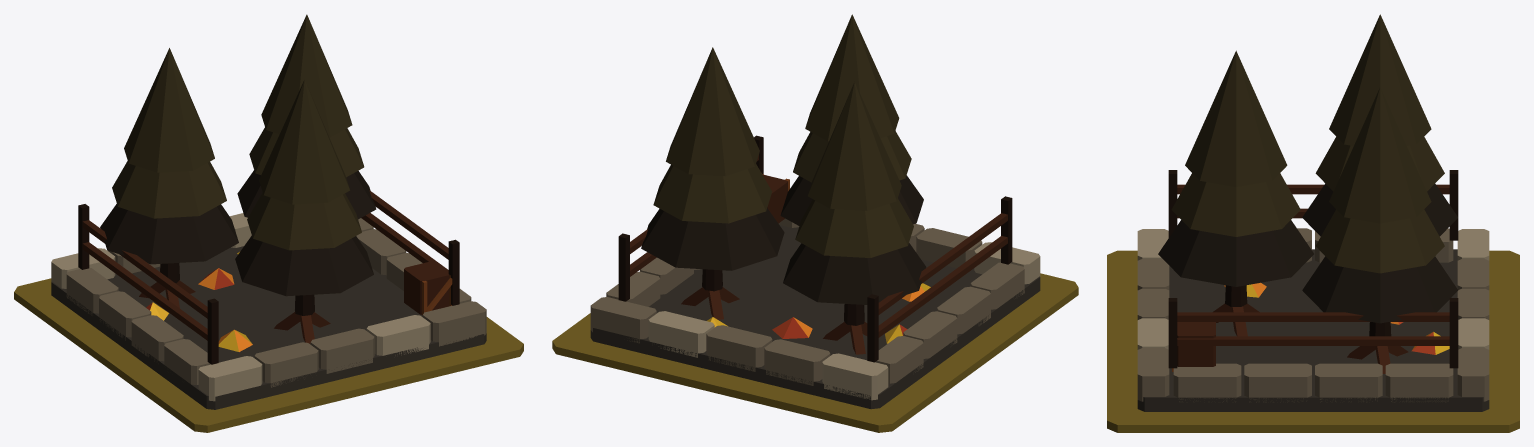
File: whisper-grove_t4.glb
3 renders of one model, left to right at view 1: azimuth 30°, elevation 25°; view 2: azimuth 150°, elevation 25°; view 3: azimuth 270°, elevation 25°, orthographic. The views are drawn at different scales.
Parts seen in each view (by area): view 1: MMR | whisper-grove | T04 Architecture.001, MMR | whisper-grove | Tier 04 Ground.001, MMR | whisper-grove | T04 Autumn Dressing.001; view 2: MMR | whisper-grove | T04 Architecture.001, MMR | whisper-grove | Tier 04 Ground.001, MMR | whisper-grove | T04 Autumn Dressing.001; view 3: MMR | whisper-grove | T04 Architecture.001, MMR | whisper-grove | Tier 04 Ground.001, MMR | whisper-grove | T04 Autumn Dressing.001.
Part boxes in pixels (x1,y1,x2,y2): MMR | whisper-grove | T04 Architecture.001: (51, 14, 486, 409); MMR | whisper-grove | Tier 04 Ground.001: (14, 278, 523, 432); MMR | whisper-grove | T04 Autumn Dressing.001: (146, 252, 252, 351); MMR | whisper-grove | T04 Architecture.001: (590, 14, 1040, 409); MMR | whisper-grove | Tier 04 Ground.001: (552, 273, 1078, 432); MMR | whisper-grove | T04 Autumn Dressing.001: (707, 283, 930, 343); MMR | whisper-grove | T04 Architecture.001: (1137, 14, 1489, 411); MMR | whisper-grove | Tier 04 Ground.001: (1107, 250, 1519, 432); MMR | whisper-grove | T04 Autumn Dressing.001: (1224, 282, 1449, 354).
Bounding box in the file's own units: 2.35 × 1.85 × 2.35.
1 material, 1 textured.
